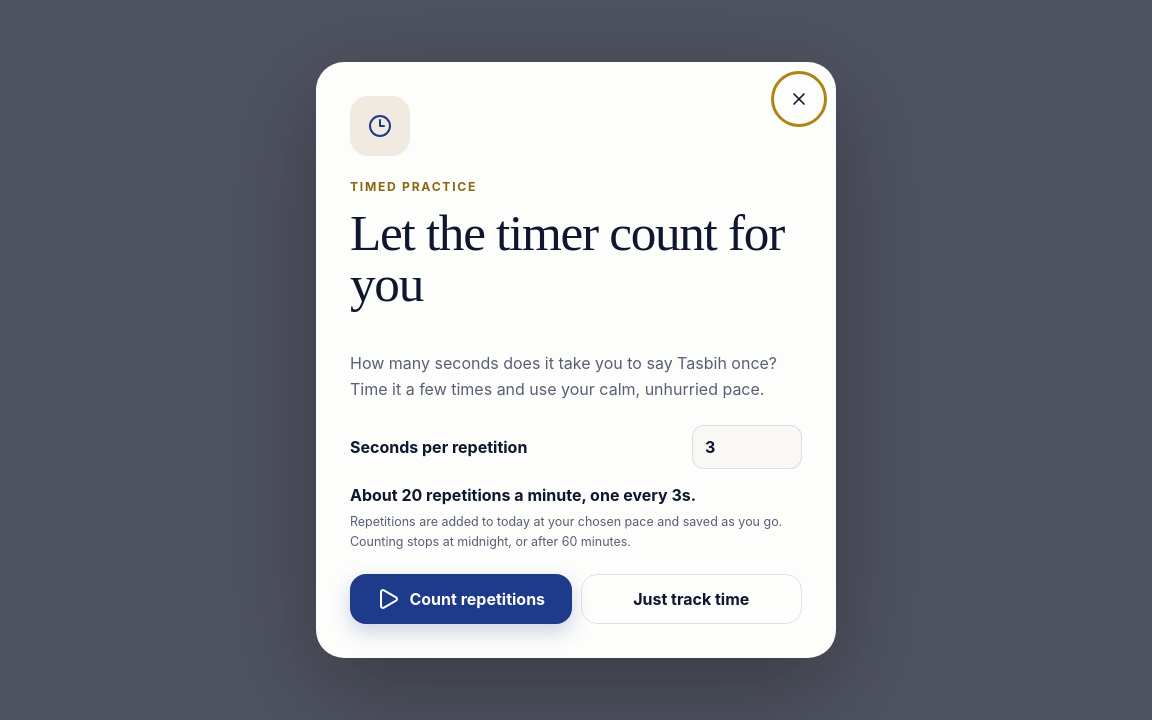
Test: TimerSetup › asks how long the chosen phrase takes and estimates the resulting pace
This screenshot has width=1152, height=720.
Expected: the text "How many seconds does it take you to say Tasbih once?" is shown, [350, 354, 777, 399]
Expected: the text "About 20 repetitions a minute, one every 3s." is shown, [350, 485, 696, 505]
Step 1. Replace the text in the number field labelled "Seconds per repetition" with "2" → (747, 447), box [692, 425, 802, 469]
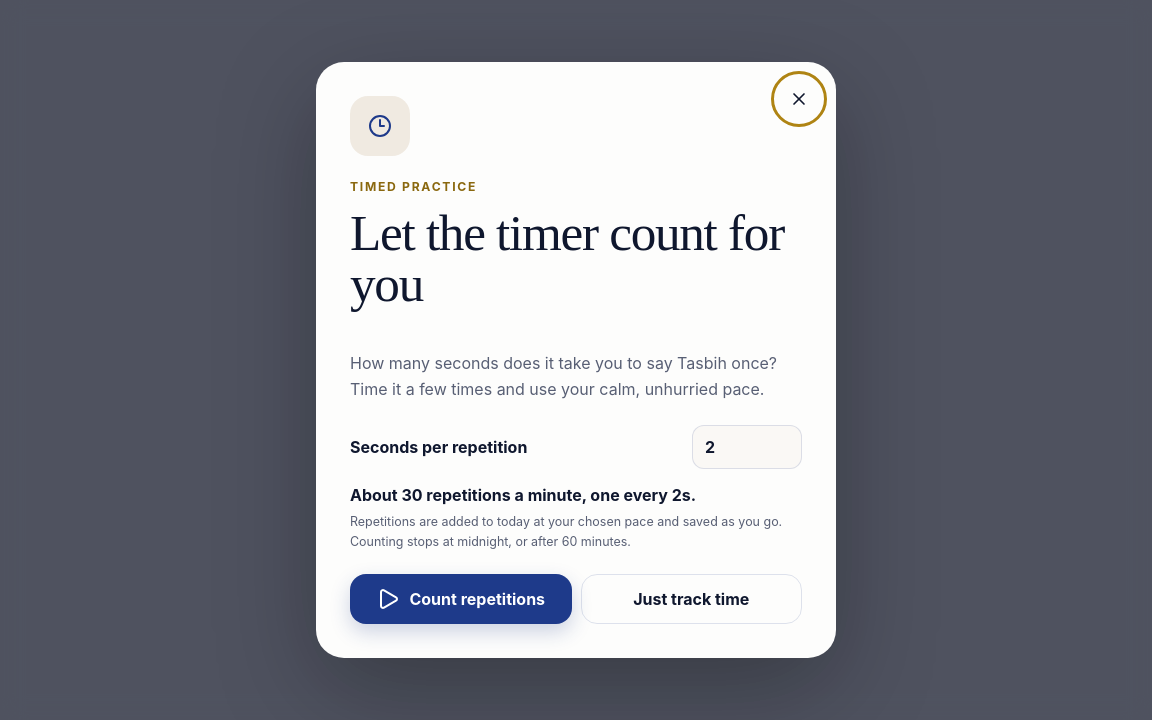
Result: the text "About 30 repetitions a minute, one every 2s." is shown at [350, 485, 696, 505]
